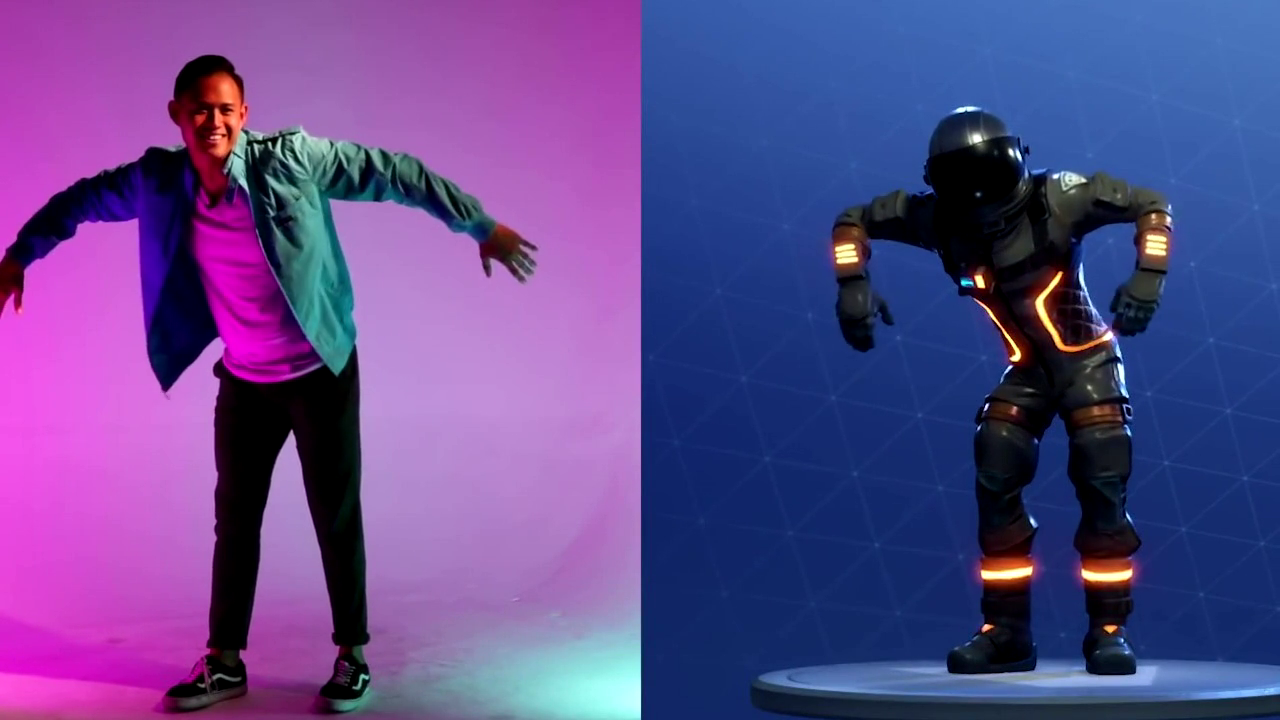Head: (168, 46, 260, 172)
Hip: (195, 342, 401, 440)
LeftAnkle: (303, 617, 396, 713)
LeftElbow: (353, 136, 436, 227)
LeftKnee: (297, 472, 381, 551)
LeftShoulder: (262, 120, 364, 214)
LeftWrist: (450, 185, 551, 283)
RightAnkle: (150, 637, 277, 718)
RightElbow: (26, 182, 111, 258)
RightKnee: (194, 468, 284, 568)
RightShoulder: (112, 147, 194, 234)
Torso: (147, 145, 364, 383)
